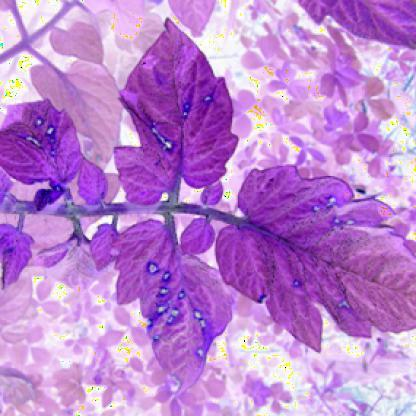Tomato leaf late blight: (208, 161, 414, 354), (108, 12, 248, 208), (108, 216, 250, 402), (2, 96, 84, 195)
